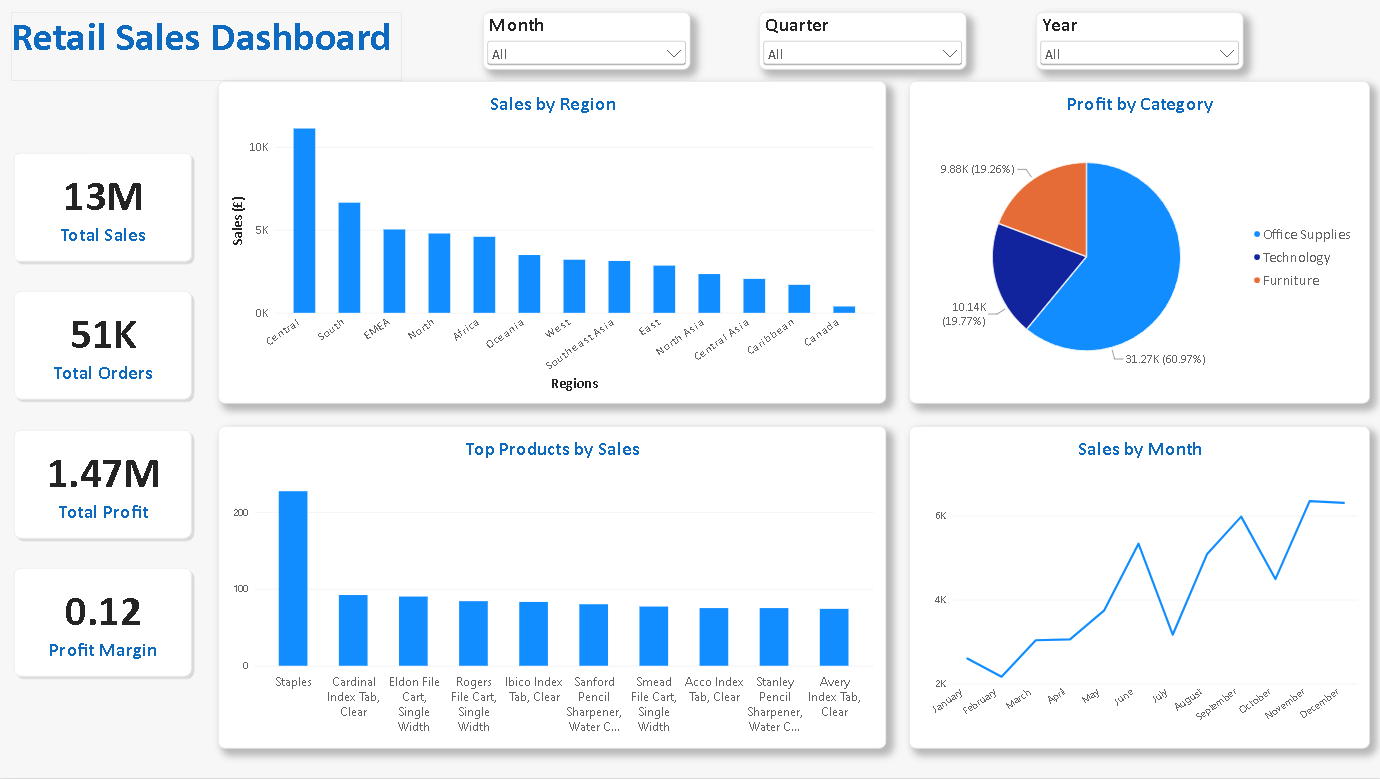

Layout of this report page (visuals, bound fields, positions):
{"tool":"powerbi","page":{"name":"Page 1","canvas":[1920,1080],"ordinal":0},"visuals":[{"type":"textbox","box":[16,16,544,96],"z":0},{"type":"cardVisual","fields":{"Data":["cleaned_sales_data.Total Sales"]},"box":[0,192,288,192],"z":1000},{"type":"cardVisual","fields":{"Data":["cleaned_sales_data.Total Orders"]},"box":[0,384,288,192],"z":2000},{"type":"cardVisual","fields":{"Data":["cleaned_sales_data.Total Profit"]},"box":[0,576,288,192],"z":3000},{"type":"cardVisual","fields":{"Data":["cleaned_sales_data.Profit Margin"]},"box":[0,768,288,192],"z":4000},{"type":"slicer","fields":{"Values":["cleaned_sales_data.year"]},"box":[1440,16,288,80],"z":5000},{"type":"slicer","fields":{"Values":["cleaned_sales_data.month_name"]},"box":[672,16,288,80],"z":6000},{"type":"slicer","fields":{"Values":["cleaned_sales_data.quarter"]},"box":[1056,16,288,80],"z":7000},{"type":"columnChart","title":"Sales by Region","fields":{"Y":["CountNonNull(cleaned_sales_data.sales)"],"Category":["cleaned_sales_data.region"]},"box":[304,112,928,448],"z":8000},{"type":"columnChart","title":"Top Products by Sales","fields":{"Category":["cleaned_sales_data.product_name"],"Y":["CountNonNull(cleaned_sales_data.sales)"]},"box":[304,592,928,448],"z":9000},{"type":"pieChart","title":"Profit by Category","fields":{"Y":["CountNonNull(cleaned_sales_data.profit)"],"Category":["cleaned_sales_data.category"]},"box":[1264,112,640,448],"z":10000},{"type":"lineChart","title":"Sales by Month","fields":{"Y":["CountNonNull(cleaned_sales_data.sales)"],"Category":["cleaned_sales_data.month_name"]},"box":[1264,592,640,448],"z":11000}]}

Visuals, with their boxes in screenshot pixels (x1, y1, x2, y2), scaled from the page's 1920x1080 canvas onto the 1380x779 screenshot:
textbox: 12,12,402,81
cardVisual - cleaned_sales_data.Total Sales: 0,138,207,277
cardVisual - cleaned_sales_data.Total Orders: 0,277,207,415
cardVisual - cleaned_sales_data.Total Profit: 0,415,207,554
cardVisual - cleaned_sales_data.Profit Margin: 0,554,207,692
slicer - cleaned_sales_data.year: 1035,12,1242,69
slicer - cleaned_sales_data.month_name: 483,12,690,69
slicer - cleaned_sales_data.quarter: 759,12,966,69
"Sales by Region" columnChart: 218,81,886,404
"Top Products by Sales" columnChart: 218,427,886,750
"Profit by Category" pieChart: 908,81,1368,404
"Sales by Month" lineChart: 908,427,1368,750
